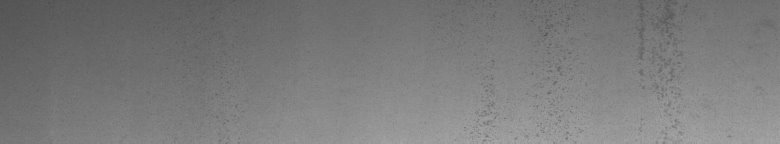ib: (464, 8, 572, 128)
